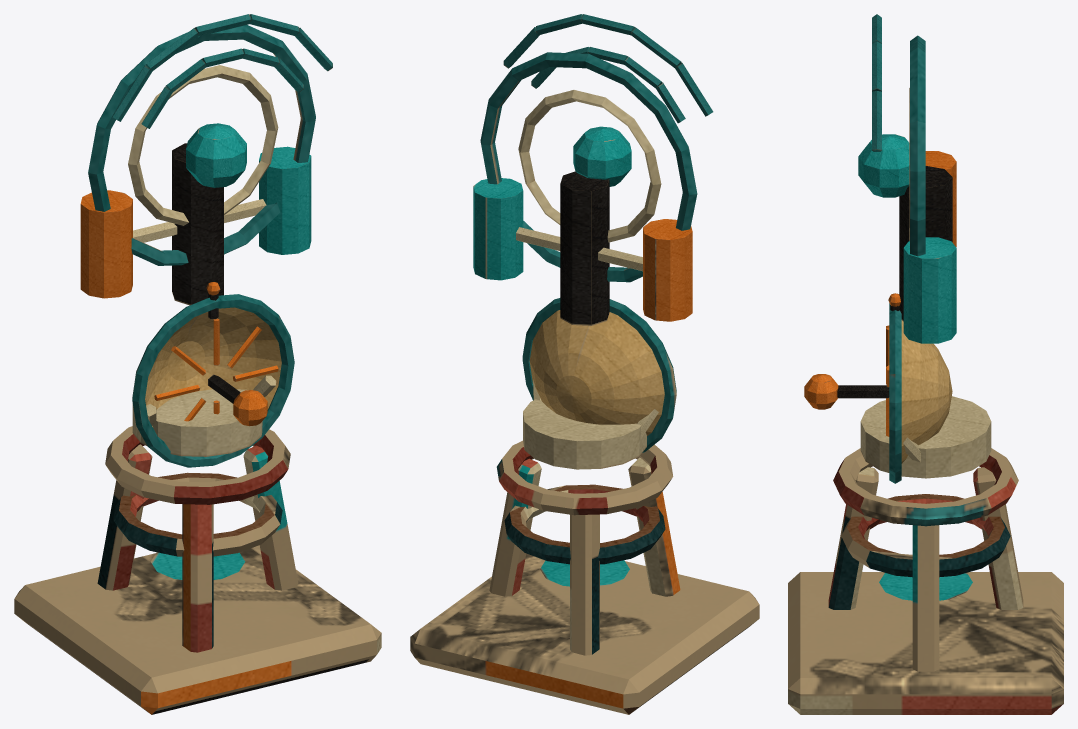
File: turret.e7.glb
3 renders of one model, left to right at view 1: azimuth 30°, elevation 25°; view 2: azimuth 150°, elevation 25°; view 3: azimuth 270°, elevation 25°, orthographic. The views are drawn at different scales.
Parts seen in each view (by area): view 1: BeamRelayTurretE7; view 2: BeamRelayTurretE7; view 3: BeamRelayTurretE7.
Part boxes in pixels (x1,y1,x2,y2): BeamRelayTurretE7: (14, 14, 381, 714); BeamRelayTurretE7: (410, 14, 759, 714); BeamRelayTurretE7: (788, 14, 1063, 714).
Size of the model in its own units: 1.35 by 3.43 by 1.35.
Materials: 1 (1 with a texture image).
